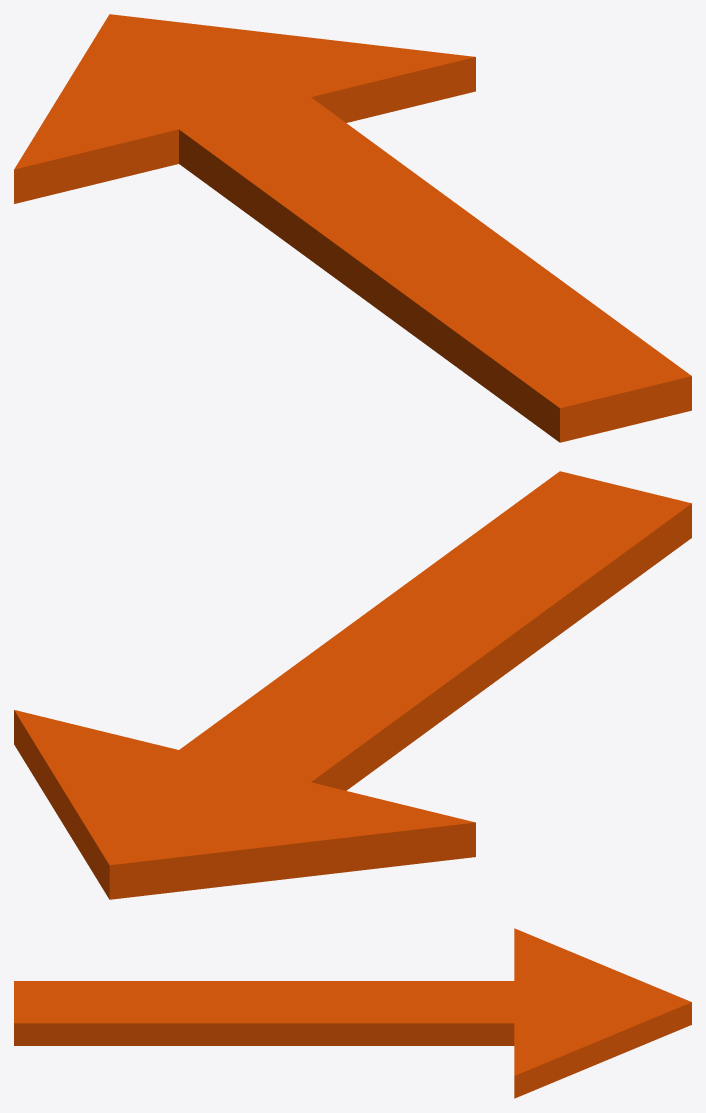
The model's file is arrow_forward.glb.
The picture shows the model from 3 angles, top to bottom: view 1: azimuth 30°, elevation 25°; view 2: azimuth 150°, elevation 25°; view 3: azimuth 270°, elevation 25°; orthographic projection. The views are drawn at different scales.
Visible parts, largest first — view 1: arrow_base; view 2: arrow_base; view 3: arrow_base.
Boxes of the visible parts, x1,y1,x2,y2 form: arrow_base: (14,14,691,442); arrow_base: (14,471,691,899); arrow_base: (14,928,691,1098).
Bounding box in the file's own units: 0.14 × 0.01 × 0.2711.
